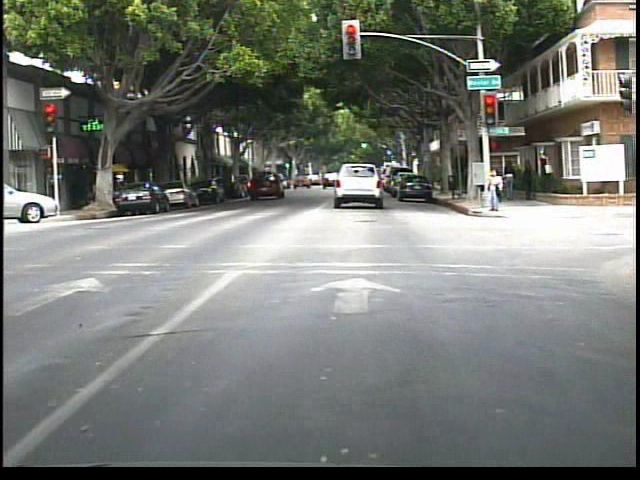person: (481, 166, 505, 215), (501, 158, 519, 204), (519, 158, 537, 204), (535, 150, 553, 192)
